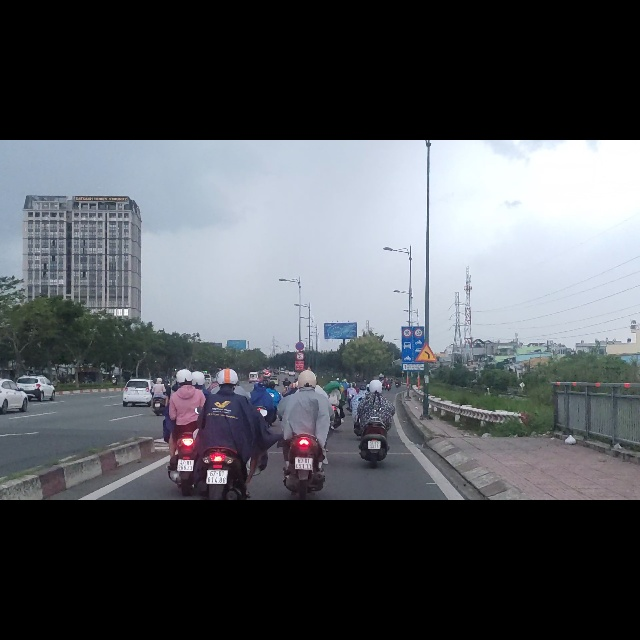bien_chi_dan: (414, 358, 437, 395), (401, 334, 412, 352), (295, 375, 305, 393), (413, 334, 423, 351), (295, 358, 304, 375)
